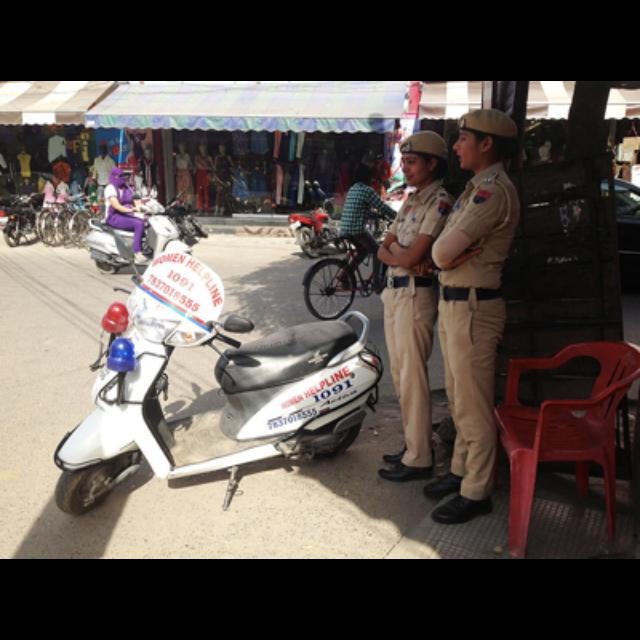Without Helmet: (102, 162, 130, 190)
